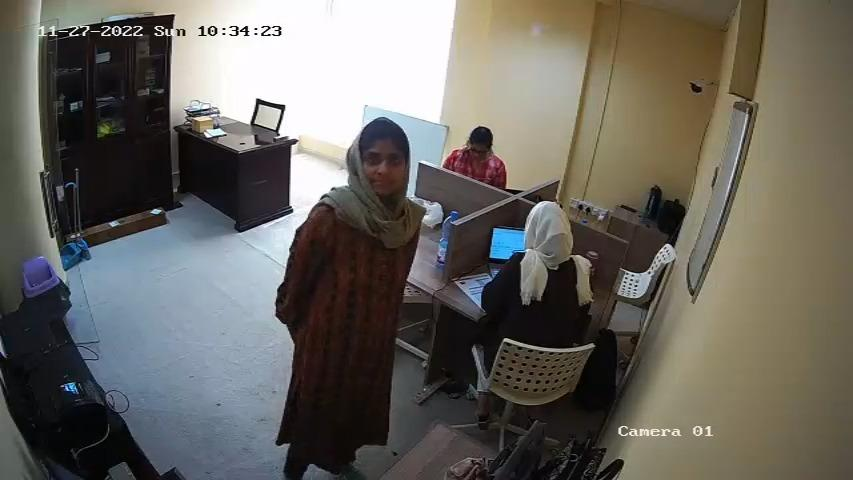no_apron: (313, 211, 398, 416)
